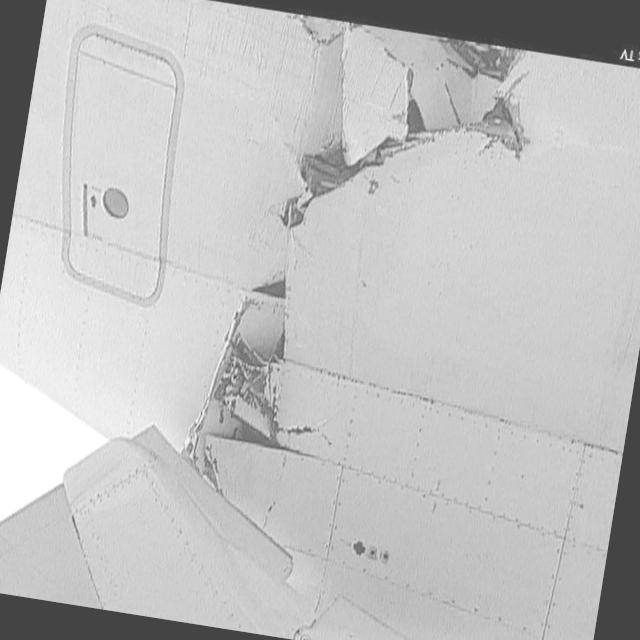crack: (174, 24, 544, 539)
